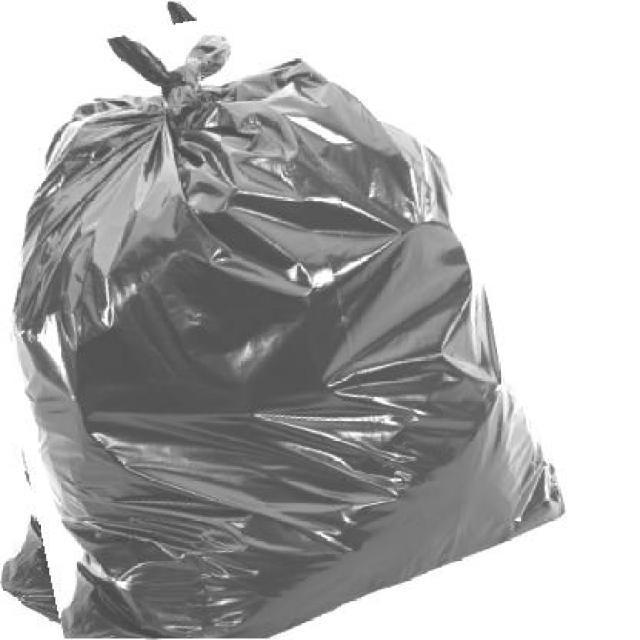waste: (0, 0, 557, 638)
